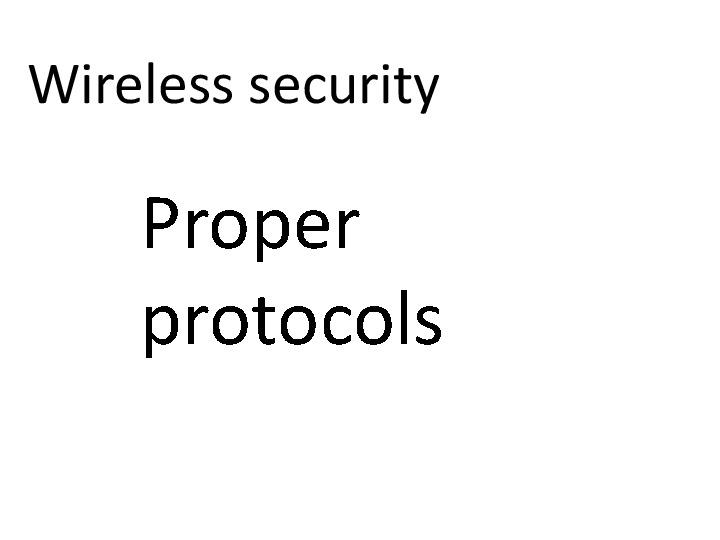title: (121, 176, 497, 385), (21, 43, 446, 127)
